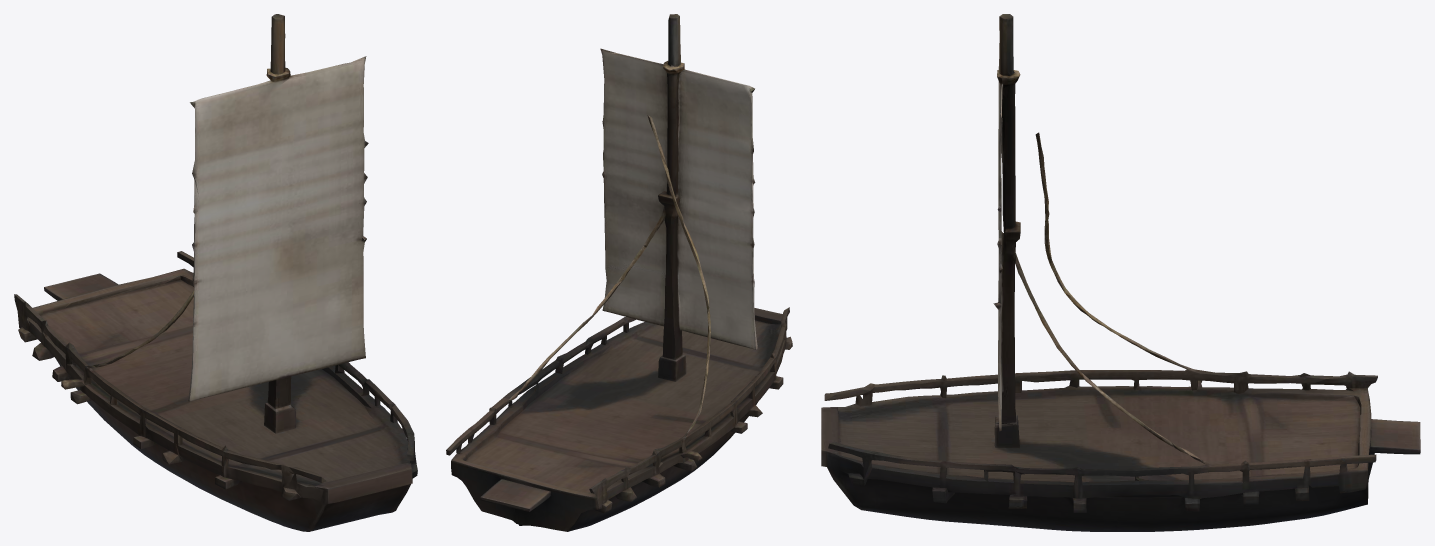
The model's file is ship.fbx.
The picture shows the model from 3 angles, left to right: view 1: azimuth 30°, elevation 25°; view 2: azimuth 150°, elevation 25°; view 3: azimuth 270°, elevation 25°; orthographic projection. The views are drawn at different scales.
Visible parts, largest first — view 1: mesh; view 2: mesh; view 3: mesh.
Part boxes in pixels (<box>): mesh: <box>14,14,417,531</box>; mesh: <box>446,14,792,531</box>; mesh: <box>821,14,1420,531</box>.
Bounding box in the file's own units: 46.5 × 91.62 × 100.
Materials: 1 (1 with a texture image).
